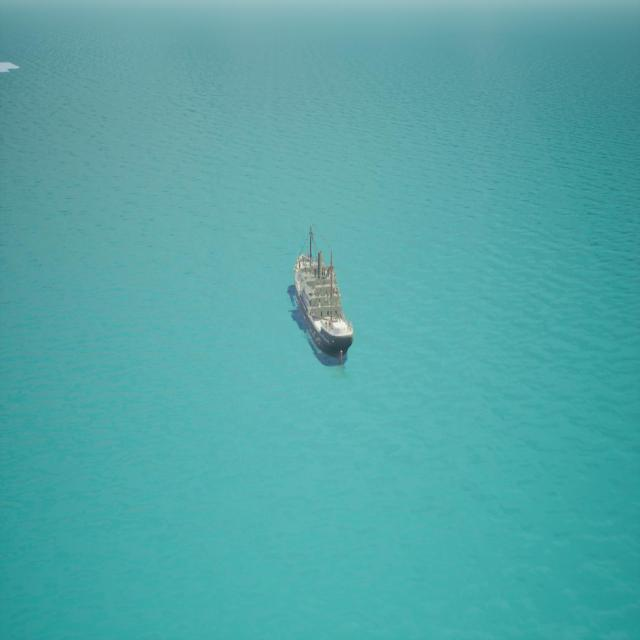fishing ship: (290, 229, 354, 370)
